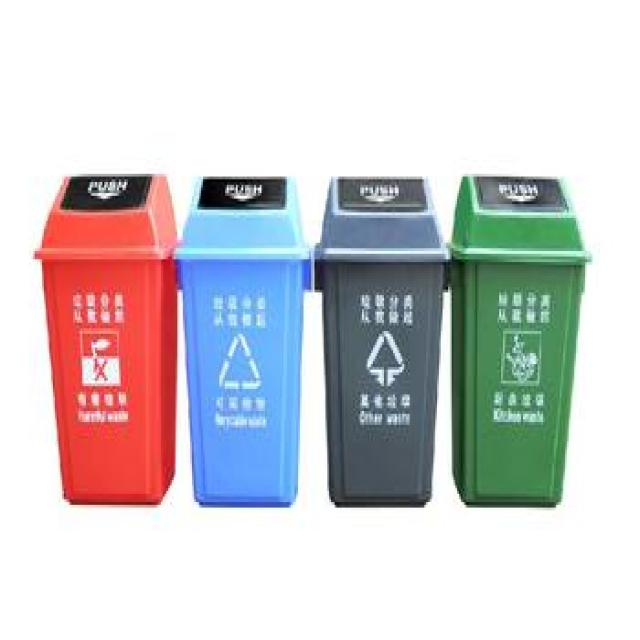garbage_bin: (31, 171, 177, 505), (448, 177, 589, 508), (172, 171, 309, 505), (313, 174, 446, 505)
